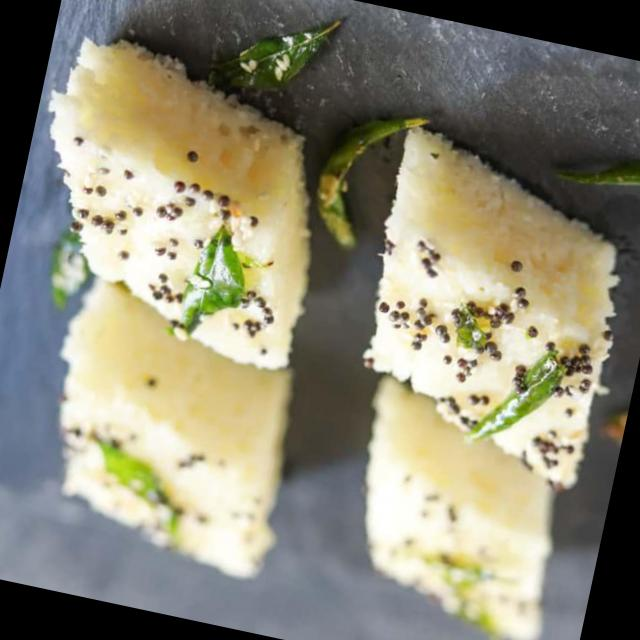dhokla: (0, 26, 363, 605), (296, 124, 639, 640)
